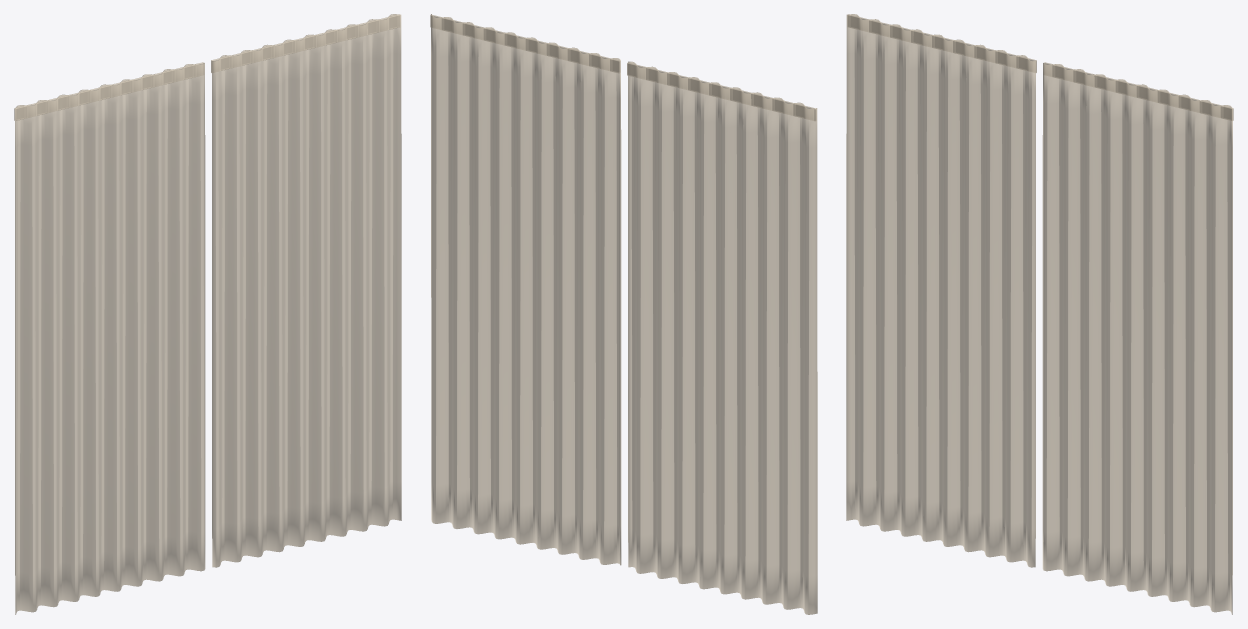
Rendered from curtain_sheer__302.glb.
3 views of the same model, side by side, from view 1: azimuth 30°, elevation 25°; view 2: azimuth 150°, elevation 25°; view 3: azimuth 330°, elevation 25° (orthographic).
Visible parts, largest first — view 1: curtain_sheer__302; view 2: curtain_sheer__302; view 3: curtain_sheer__302.
Boxes of the visible parts, x1=… form: curtain_sheer__302: x1=14, y1=14, x2=401, y2=614; curtain_sheer__302: x1=430, y1=14, x2=817, y2=614; curtain_sheer__302: x1=846, y1=14, x2=1233, y2=614.
Bounding box in the file's own units: 1.6 × 2 × 0.04.
